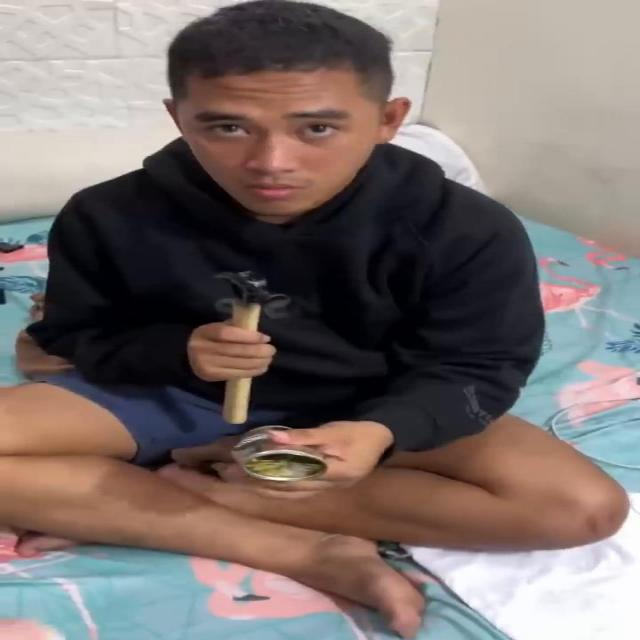hammer: (212, 266, 289, 426)
